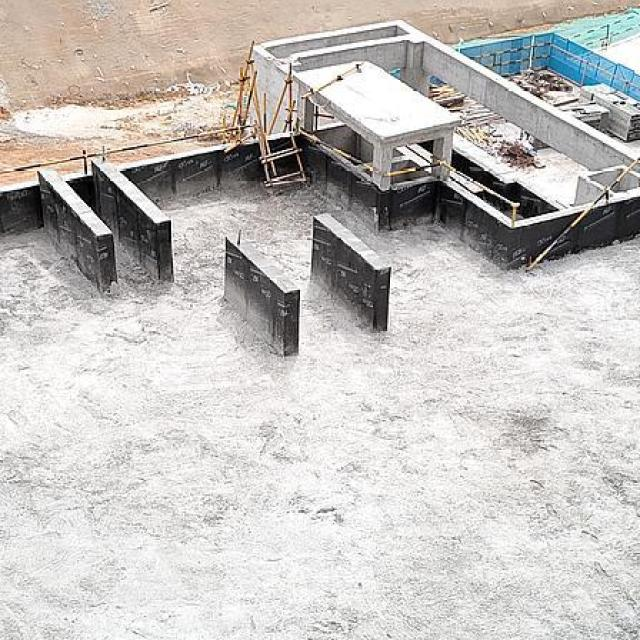edge_guardrail: (300, 127, 521, 222), (527, 157, 640, 272), (0, 124, 256, 174), (468, 41, 640, 101), (568, 13, 640, 47), (300, 64, 359, 99)
